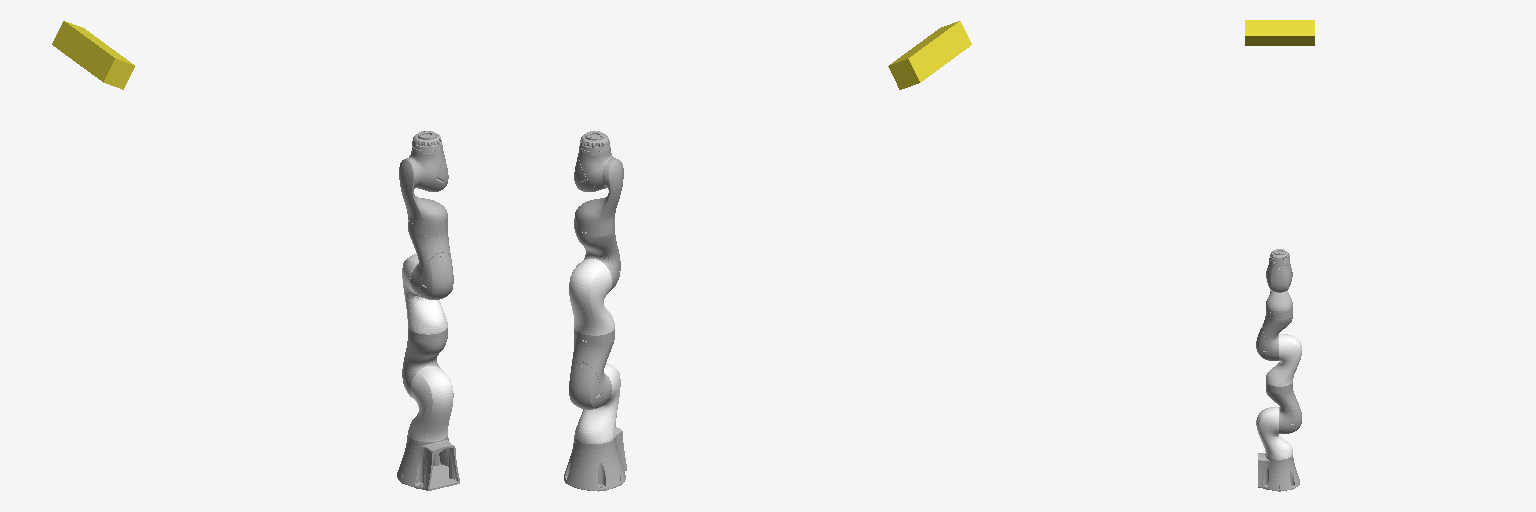
The robot description file, URDF, robot "DOBO1":
<?xml version="1.0" encoding="utf-8"?>
<!-- This URDF was automatically created by SolidWorks to URDF Exporter! Originally created by [author] ([email redacted]) 
     Commit Version: 1.6.0-1-g15f4949  Build Version: 1.6.7594.29634
     For more information, please see http://wiki.ros.org/sw_urdf_exporter -->
<robot
  name="DOBO1">
  <link name="world" />
  <joint name="world_virtual_joint" type="fixed">
    <parent link="world"/>
    <child link="base_link"/>
  </joint>
  <link
    name="base_link">
    <inertial>
      <origin xyz="0 0 0" rpy="0 0 0" />
      <mass value="3.06" />
      <inertia ixx="0.3" ixy="0.0" ixz="0.0" iyy="0.3" iyz="0.0" izz="0.3" />
    </inertial>
    <visual>
      <origin
        xyz="0 0 0"
        rpy="0 0 0" />
      <geometry>
        <mesh
          filename="package://DOBO1/meshes/base_link.STL" />
      </geometry>
      <material
        name="">
        <color
          rgba="0.752941176470588 0.752941176470588 0.752941176470588 1" />
      </material>
    </visual>
    <collision>
      <origin
        xyz="0 0 0"
        rpy="0 0 0" />
      <geometry>
        <mesh
          filename="package://DOBO1/meshes/base_link.STL" />
      </geometry>
    </collision>
  </link>
  <link
    name="link_1">
    <inertial>
      <origin xyz="0 0 0" rpy="0 0 0" />
      <mass value="3.06" />
      <inertia ixx="0.3" ixy="0.0" ixz="0.0" iyy="0.3" iyz="0.0" izz="0.3" />
    </inertial>
    <visual>
      <origin
        xyz="0 0 0"
        rpy="0 0 0" />
      <geometry>
        <mesh
          filename="package://DOBO1/meshes/link_1.STL" />
      </geometry>
      <material
        name="">
        <color
          rgba="1 1 1 1" />
      </material>
    </visual>
    <collision>
      <origin
        xyz="0 0 0"
        rpy="0 0 0" />
      <geometry>
        <mesh
          filename="package://DOBO1/meshes/link_1.STL" />
      </geometry>
    </collision>
  </link>
  <joint
    name="joint_1"
    type="revolute">
    <origin
      xyz="0 -0.0025539 0.13584"
      rpy="0 0 0" />
    <parent
      link="base_link" />
    <child
      link="link_1" />
    <axis
      xyz="0 0 -1" />
    <limit
      lower="-0.785"
      upper="3.926"
      effort="87"
      velocity="2.1750" />
    <dynamics damping="1.0"/> 
  </joint>
  <link
    name="link_2">
    <inertial>
      <origin xyz="0 0 0" rpy="0 0 0" />
      <mass value="3.06" />
      <inertia ixx="0.3" ixy="0.0" ixz="0.0" iyy="0.3" iyz="0.0" izz="0.3" />
    </inertial>
    <visual>
      <origin
        xyz="0 0 0"
        rpy="0 0 0" />
      <geometry>
        <mesh
          filename="package://DOBO1/meshes/link_2.STL" />
      </geometry>
      <material
        name="">
        <color
          rgba="0.752941176470588 0.752941176470588 0.752941176470588 1" />
      </material>
    </visual>
    <collision>
      <origin
        xyz="0 0 0"
        rpy="0 0 0" />
      <geometry>
        <mesh
          filename="package://DOBO1/meshes/link_2.STL" />
      </geometry>
    </collision>
  </link>
  <joint
    name="joint_2"
    type="revolute">
    <origin
      xyz="0 0 0.15026"
      rpy="-1.5708 0 0" />
    <parent
      link="link_1" />
    <child
      link="link_2" />
    <axis
      xyz="0 0 -1" />
    <limit
      lower="-0.785"
      upper="3.926"
      effort="87"
      velocity="2.1750" />
    <dynamics damping="1.0"/>
  </joint>
  <link
    name="link_3">
    <inertial>
      <origin xyz="0 0 0" rpy="0 0 0" />
      <mass value="3.06" />
      <inertia ixx="0.3" ixy="0.0" ixz="0.0" iyy="0.3" iyz="0.0" izz="0.3" />
    </inertial>
    <visual>
      <origin
        xyz="0 0 0"
        rpy="0 0 0" />
      <geometry>
        <mesh
          filename="package://DOBO1/meshes/link_3.STL" />
      </geometry>
      <material
        name="">
        <color
          rgba="1 1 1 1" />
      </material>
    </visual>
    <collision>
      <origin
        xyz="0 0 0"
        rpy="0 0 0" />
      <geometry>
        <mesh
          filename="package://DOBO1/meshes/link_3.STL" />
      </geometry>
    </collision>
  </link>
  <joint
    name="joint_3"
    type="revolute">
    <origin
      xyz="0 -0.169 -0.0003799"
      rpy="1.5708 0 0" />
    <parent
      link="link_2" />
    <child
      link="link_3" />
    <axis
      xyz="0 0 -1" />
    <limit
      lower="-0.785"
      upper="3.926"
      effort="87"
      velocity="2.1750" />
    <dynamics damping="1.0"/>
  </joint>
  <link
    name="link_4">
    <inertial>
      <origin xyz="0 0 0" rpy="0 0 0" />
      <mass value="3.06" />
      <inertia ixx="0.3" ixy="0.0" ixz="0.0" iyy="0.3" iyz="0.0" izz="0.3" />
    </inertial>
    <visual>
      <origin
        xyz="0 0 0"
        rpy="0 0 0" />
      <geometry>
        <mesh
          filename="package://DOBO1/meshes/link_4.STL" />
      </geometry>
      <material
        name="">
        <color
          rgba="0.752941176470588 0.752941176470588 0.752941176470588 1" />
      </material>
    </visual>
    <collision>
      <origin
        xyz="0 0 0"
        rpy="0 0 0" />
      <geometry>
        <mesh
          filename="package://DOBO1/meshes/link_4.STL" />
      </geometry>
    </collision>
  </link>
  <joint
    name="joint_4"
    type="revolute">
    <origin
      xyz="-2.1962E-05 0 0.1506"
      rpy="1.5708 0 0" />
    <parent
      link="link_3" />
    <child
      link="link_4" />
    <axis
      xyz="0 0 -1" />
    <limit
      lower="-0.785"
      upper="3.926"
      effort="87"
      velocity="2.1750" />
    <dynamics damping="1.0"/>
  </joint>
  <link
    name="link_5">
    <inertial>
      <origin xyz="0 0 0" rpy="0 0 0" />
      <mass value="3.06" />
      <inertia ixx="0.3" ixy="0.0" ixz="0.0" iyy="0.3" iyz="0.0" izz="0.3" />
    </inertial>
    <visual>
      <origin
        xyz="0 0 0"
        rpy="0 0 0" />
      <geometry>
        <mesh
          filename="package://DOBO1/meshes/link_5.STL" />
      </geometry>
      <material
        name="">
        <color
          rgba="0.752941176470588 0.752941176470588 0.752941176470588 1" />
      </material>
    </visual>
    <collision>
      <origin
        xyz="0 0 0"
        rpy="0 0 0" />
      <geometry>
        <mesh
          filename="package://DOBO1/meshes/link_5.STL" />
      </geometry>
    </collision>
  </link>
  <joint
    name="joint_5"
    type="revolute">
    <origin
      xyz="2.1962E-05 0.1736 -0.00037968"
      rpy="-1.5708 0 0" />
    <parent
      link="link_4" />
    <child
      link="link_5" />
    <axis
      xyz="0 0 -1" />
    <limit
      lower="-0.785"
      upper="3.926"
      effort="87"
      velocity="2.1750" />
    <dynamics damping="1.0"/>
  </joint>
  <link
    name="link_6">
    <inertial>
      <origin xyz="0 0 0" rpy="0 0 0" />
      <mass value="3.06" />
      <inertia ixx="0.3" ixy="0.0" ixz="0.0" iyy="0.3" iyz="0.0" izz="0.3" />
    </inertial>
    <visual>
      <origin
        xyz="0 0 0"
        rpy="0 0 0" />
      <geometry>
        <mesh
          filename="package://DOBO1/meshes/link_6.STL" />
      </geometry>
      <material
        name="">
        <color
          rgba="0.752941176470588 0.752941176470588 0.752941176470588 1" />
      </material>
    </visual>
    <collision>
      <origin
        xyz="0 0 0"
        rpy="0 0 0" />
      <geometry>
        <mesh
          filename="package://DOBO1/meshes/link_6.STL" />
      </geometry>
    </collision>
  </link>
  <joint
    name="joint_6"
    type="revolute">
    <origin
      xyz="0 0 0.14599"
      rpy="1.5708 0 1.5708" />
    <parent
      link="link_5" />
    <child
      link="link_6" />
    <axis
      xyz="0 0 -1" />
    <limit
      lower="-0.785"
      upper="3.926"
      effort="87"
      velocity="2.1750" />
    <dynamics damping="1.0"/>
  </joint>
  <link
    name="link_7">
    <inertial>
      <origin xyz="0 0 0" rpy="0 0 0" />
      <mass value="3.06" />
      <inertia ixx="0.3" ixy="0.0" ixz="0.0" iyy="0.3" iyz="0.0" izz="0.3" />
    </inertial>
    <visual>
      <origin
        xyz="0 0 0"
        rpy="0 0 0" />
      <geometry>
        <mesh
          filename="package://DOBO1/meshes/link_7.STL" />
      </geometry>
      <material
        name="">
        <color
          rgba="0.752941176470588 0.752941176470588 0.752941176470588 1" />
      </material>
    </visual>
    <collision>
      <origin
        xyz="0 0 0"
        rpy="0 0 0" />
      <geometry>
        <mesh
          filename="package://DOBO1/meshes/link_7.STL" />
      </geometry>
    </collision>
  </link>
  <joint
    name="joint_7"
    type="revolute">
    <origin
      xyz="0.0013242 0.070964 -0.0012638"
      rpy="1.5708 0.46949 3.1229" />
    <parent
      link="link_6" />
    <child
      link="link_7" />
    <axis
      xyz="0 0 -1" />
    <limit
      lower="-0.785"
      upper="3.926"
      effort="87"
      velocity="2.1750" />
  </joint>
  
<!-- gazebo 상에서 로봇을 움직일 때 필요한 플러그인 -->
  <transmission name="DOBO_tran_1">
    <type>transmission_interface/SimpleTransmission</type>
    <joint name="joint_1">
      <hardwareInterface>hardware_interface/EffortJointInterface</hardwareInterface>
    </joint>
    <actuator name="DOBO_motor_1">
      <hardwareInterface>hardware_interface/EffortJointInterface</hardwareInterface>
      <mechanicalReduction>1</mechanicalReduction>
    </actuator>
   </transmission>
     <transmission name="DOBO_tran_2">
    <type>transmission_interface/SimpleTransmission</type>
    <joint name="joint_2">
      <hardwareInterface>hardware_interface/EffortJointInterface</hardwareInterface>
    </joint>
    <actuator name="DOBO_motor_2">
      <hardwareInterface>hardware_interface/EffortJointInterface</hardwareInterface>
      <mechanicalReduction>1</mechanicalReduction>
    </actuator>
   </transmission>
     <transmission name="DOBO_tran_3">
    <type>transmission_interface/SimpleTransmission</type>
    <joint name="joint_3">
      <hardwareInterface>hardware_interface/EffortJointInterface</hardwareInterface>
    </joint>
    <actuator name="DOBO_motor_3">
      <hardwareInterface>hardware_interface/EffortJointInterface</hardwareInterface>
      <mechanicalReduction>1</mechanicalReduction>
    </actuator>
   </transmission>
     <transmission name="DOBO_tran_4">
    <type>transmission_interface/SimpleTransmission</type>
    <joint name="joint_4">
      <hardwareInterface>hardware_interface/EffortJointInterface</hardwareInterface>
    </joint>
    <actuator name="DOBO_motor_4">
      <hardwareInterface>hardware_interface/EffortJointInterface</hardwareInterface>
      <mechanicalReduction>1</mechanicalReduction>
    </actuator>
   </transmission>
     <transmission name="DOBO_tran_5">
    <type>transmission_interface/SimpleTransmission</type>
    <joint name="joint_5">
      <hardwareInterface>hardware_interface/EffortJointInterface</hardwareInterface>
    </joint>
    <actuator name="DOBO_motor_5">
      <hardwareInterface>hardware_interface/EffortJointInterface</hardwareInterface>
      <mechanicalReduction>1</mechanicalReduction>
    </actuator>
   </transmission>
     <transmission name="DOBO_tran_6">
    <type>transmission_interface/SimpleTransmission</type>
    <joint name="joint_6">
      <hardwareInterface>hardware_interface/EffortJointInterface</hardwareInterface>
    </joint>
    <actuator name="DOBO_motor_6">
      <hardwareInterface>hardware_interface/EffortJointInterface</hardwareInterface>
      <mechanicalReduction>1</mechanicalReduction>
    </actuator>
   </transmission>
     <transmission name="DOBO_tran_7">
    <type>transmission_interface/SimpleTransmission</type>
    <joint name="joint_7">
      <hardwareInterface>hardware_interface/EffortJointInterface</hardwareInterface>
    </joint>
    <actuator name="DOBO_motor_7">
      <hardwareInterface>hardware_interface/EffortJointInterface</hardwareInterface>
      <mechanicalReduction>1</mechanicalReduction>
    </actuator>
   </transmission>

   <gazebo>
    <plugin name="gazebo_ros_control" filename="libgazebo_ros_control.so"/>
  </gazebo>
<!-- gazebo 상에서 로봇을 움직일 때 필요한 플러그인 -->

<gazebo reference="camera_depth_frame">
    <sensor name="camera1" type="depth">
      <always_on>true</always_on>
      <update_rate>20.0</update_rate>
      <camera>
        <horizontal_fov>1.0471975512</horizontal_fov>
        <image>
          <format>R8G8B8</format>
          <width>640</width>
          <height>480</height>
        </image>
        <clip>
          <near>0.05</near>
          <far>8.0</far>
        </clip>
      </camera>
      <plugin filename="libgazebo_ros_openni_kinect.so" name="camera_depth_frame_kinect_controller">
        <baseline>0.1</baseline>
        <alwaysOn>true</alwaysOn>
        <updateRate>10</updateRate>
        <cameraName>camera1</cameraName>
        <imageTopicName>depth/image_raw</imageTopicName>
        <cameraInfoTopicName>depth/camera_info</cameraInfoTopicName>
        <depthImageTopicName>depth/image_raw</depthImageTopicName>
        <depthImageCameraInfoTopicName>depth/camera_info</depthImageCameraInfoTopicName>
        <pointCloudTopicName>depth/points</pointCloudTopicName>
        <frameName>camera_depth_optical_frame</frameName>
        <pointCloudCutoff>0.3</pointCloudCutoff>
        <distortion_k1>0.0</distortion_k1>
        <distortion_k2>0.0</distortion_k2>
        <distortion_k3>0.0</distortion_k3>
        <distortion_t1>0.0</distortion_t1>
        <distortion_t2>0.0</distortion_t2>
        <!--
    <CxPrime>0</CxPrime>
    <Cx>0</Cx>
    <Cy>0</Cy>
    <focalLength>0</focalLength>
    <hackBaseline>0</hackBaseline>
-->
      </plugin>
    </sensor>
  </gazebo>
  <!-- Parameterised in part by the values in kinect_properties.urdf.xacro -->
  <joint name="camera_rgb_joint" type="fixed">
    <origin rpy="0 0.53 0" xyz="-1 0 1.5"/>
    <parent link="world"/>
    <child link="camera_rgb_frame"/>
  </joint>
  <link name="camera_rgb_frame">
    <inertial>
      <mass value="0.001"/>
      <origin xyz="0 0 0"/>
      <inertia ixx="0.0001" ixy="0.0" ixz="0.0" iyy="0.0001" iyz="0.0" izz="0.0001"/>
    </inertial>
  </link>
  <joint name="camera_rgb_optical_joint" type="fixed">
    <origin rpy="-1.57079632679 0 -1.57079632679" xyz="0 0 0"/>
    <parent link="camera_rgb_frame"/>
    <child link="camera_rgb_optical_frame"/>
  </joint>
  <link name="camera_rgb_optical_frame">
    <inertial>
      <mass value="0.001"/>
      <origin xyz="0 0 0"/>
      <inertia ixx="0.0001" ixy="0.0" ixz="0.0" iyy="0.0001" iyz="0.0" izz="0.0001"/>
    </inertial>
  </link>
  <joint name="camera_joint" type="fixed">
    <origin rpy="0 0 0" xyz="-0.031 -0.0 -0.016"/>
    <parent link="camera_rgb_frame"/>
    <child link="camera_link"/>
  </joint>
  <link name="camera_link">
    <visual>
      <origin rpy="0 0 1.57079632679" xyz="0 0 0"/>
      <geometry> 
<!--         <mesh filename="package://kinect2/meshes/sensors/kinect.dae"/> -->
        <box size="0.27794 0.07271 0.073"/>

      </geometry>
    </visual>
    <collision>
      <origin rpy="0 0 0" xyz="0.0 0.0 0.0"/>
      <geometry>
        <box size="0.07271 0.27794 0.073"/>
      </geometry>
    </collision>
    <inertial>
      <mass value="0.001"/>
      <origin xyz="0 0 0"/>
      <inertia ixx="0.0001" ixy="0.0" ixz="0.0" iyy="0.0001" iyz="0.0" izz="0.0001"/>
    </inertial>
  </link>
  <!-- The fixed joints & links below are usually published by static_transformers launched by the OpenNi launch 
     files. However, for Gazebo simulation we need them, so we add them here.
     (Hence, don't publish them additionally!) -->
  <joint name="camera_depth_joint" type="fixed">
    <origin rpy="0 0 0" xyz="0 0.0 0"/>
    <parent link="camera_rgb_frame"/>
    <child link="camera_depth_frame"/>
  </joint>
  <link name="camera_depth_frame">
    <inertial>
      <mass value="0.001"/>
      <origin xyz="0 0 0"/>
      <inertia ixx="0.0001" ixy="0.0" ixz="0.0" iyy="0.0001" iyz="0.0" izz="0.0001"/>
    </inertial>
  </link>
  <joint name="camera_depth_optical_joint" type="fixed">
    <origin rpy="-1.57079632679 0 -1.57079632679" xyz="0 0 0"/>
    <parent link="camera_depth_frame"/>
    <child link="camera_depth_optical_frame"/>
  </joint>
  <link name="camera_depth_optical_frame">
    <inertial>
      <mass value="0.001"/>
      <origin xyz="0 0 0"/>
      <inertia ixx="0.0001" ixy="0.0" ixz="0.0" iyy="0.0001" iyz="0.0" izz="0.0001"/>
    </inertial>
  </link>





</robot>

--- Render facts (derived) ---
3 views of the same robot in one strip: view 1: azimuth 30°, elevation 25°; view 2: azimuth 150°, elevation 25°; view 3: azimuth 270°, elevation 25° (orthographic).
Model DOBO1 with 14 links and 13 joints (7 revolute, 6 fixed), rooted at world, posed all joints at 0.
Visible links, largest first — view 1: link_4, link_1, camera_link, base_link, link_3, link_5, link_2, link_6; view 2: link_2, base_link, link_3, camera_link, link_1, link_5, link_4, link_6; view 3: camera_link, base_link, link_3, link_1, link_2, link_4, link_6.
Boxes of the visible links, x1,y1,x2,y2 form: link_4: (408, 220, 453, 299); link_1: (408, 366, 453, 441); camera_link: (52, 21, 134, 89); base_link: (397, 435, 459, 490); link_3: (402, 254, 447, 334); link_5: (399, 158, 447, 226); link_2: (402, 328, 447, 397); link_6: (409, 143, 448, 191); link_2: (569, 328, 614, 409); base_link: (564, 427, 626, 491); link_3: (569, 259, 614, 335); camera_link: (888, 21, 971, 89); link_1: (574, 363, 620, 443); link_5: (575, 158, 623, 226); link_4: (574, 218, 620, 292); link_6: (574, 143, 613, 191); camera_link: (1245, 20, 1314, 45); base_link: (1258, 453, 1299, 491); link_3: (1266, 334, 1301, 386); link_1: (1256, 407, 1292, 459); link_2: (1266, 383, 1301, 433); link_4: (1256, 310, 1292, 360); link_6: (1266, 256, 1292, 292).
Bounding box of the posed robot: 1.17 × 0.2779 × 1.54 m (x, y, z).
8 mesh visuals loaded from 8 distinct referenced files (8 binary STL).
